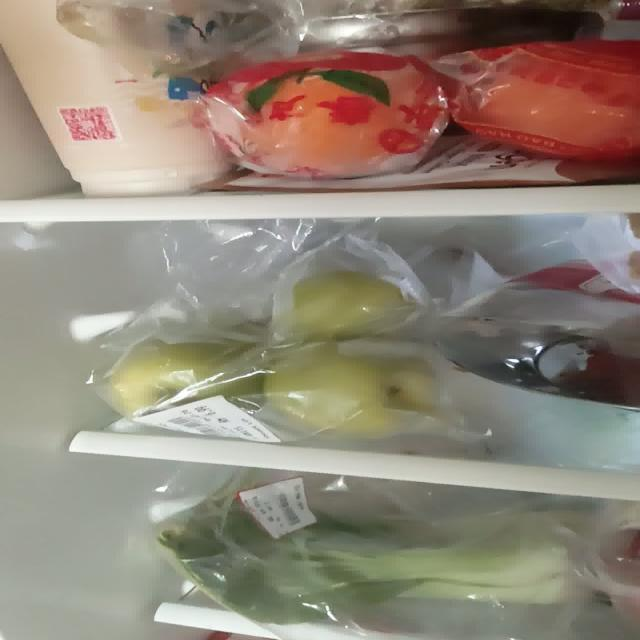apple: (103, 268, 441, 441)
orange: (210, 40, 640, 179)
pakchoy: (158, 481, 590, 633)
